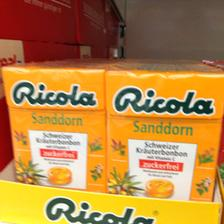Suessigkeit: (107, 66, 219, 206), (1, 64, 105, 196)
